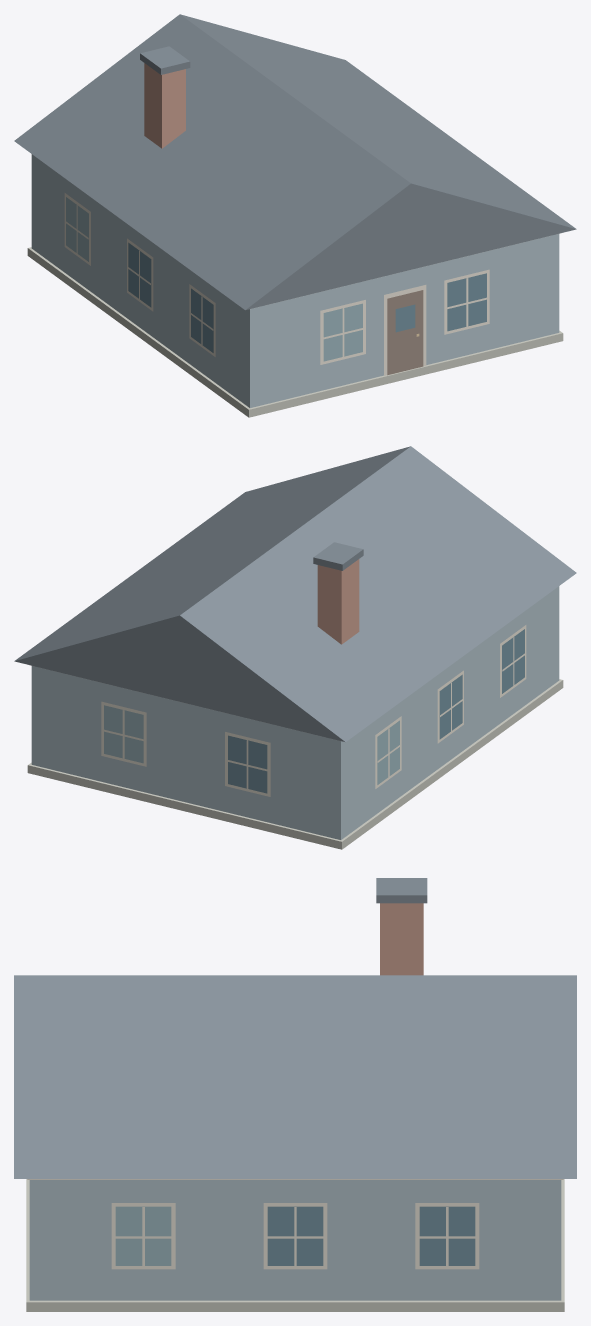
File: house-gable-blue.glb
The picture shows the model from 3 angles, top to bottom: view 1: azimuth 30°, elevation 25°; view 2: azimuth 150°, elevation 25°; view 3: azimuth 270°, elevation 25°; orthographic projection. The views are drawn at different scales.
Visible parts, largest first — view 1: house-gable-blue; view 2: house-gable-blue; view 3: house-gable-blue.
Part boxes in pixels (left/top/right/bottom): house-gable-blue: left=14, top=14, right=576, bottom=417; house-gable-blue: left=14, top=446, right=576, bottom=849; house-gable-blue: left=14, top=878, right=576, bottom=1311.
Bounding box in the file's own units: 9.65 × 6.4 × 11.65.
